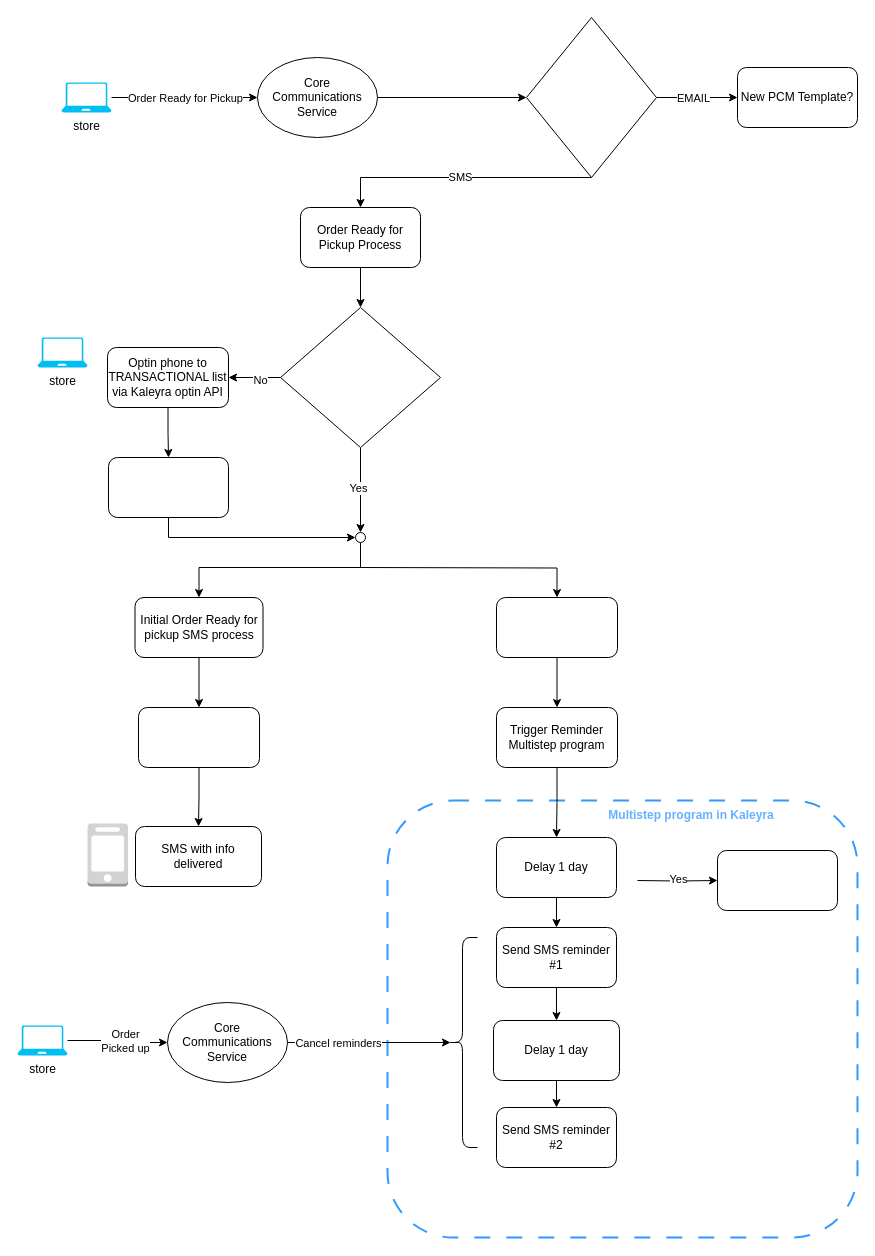
Some shapes in this 875 by 1256 pixel diagram are drawn without their labels. The centre of each missing label's shape, as x and y in pixels:
"Do nothing" goes at pixel 777 880.
"Optin phone to TRANSACTIONAL in OneView?" goes at pixel 168 487.
"Preferred channel SMS/EMAIL?" goes at pixel 591 97.
"SMS Reminders process" goes at pixel 557 627.
"Text Y/N" goes at pixel 107 854.
"Trigger Template Broadcast" goes at pixel 199 737.
"User opted in TRANSACTIONAL list?" goes at pixel 360 377.
